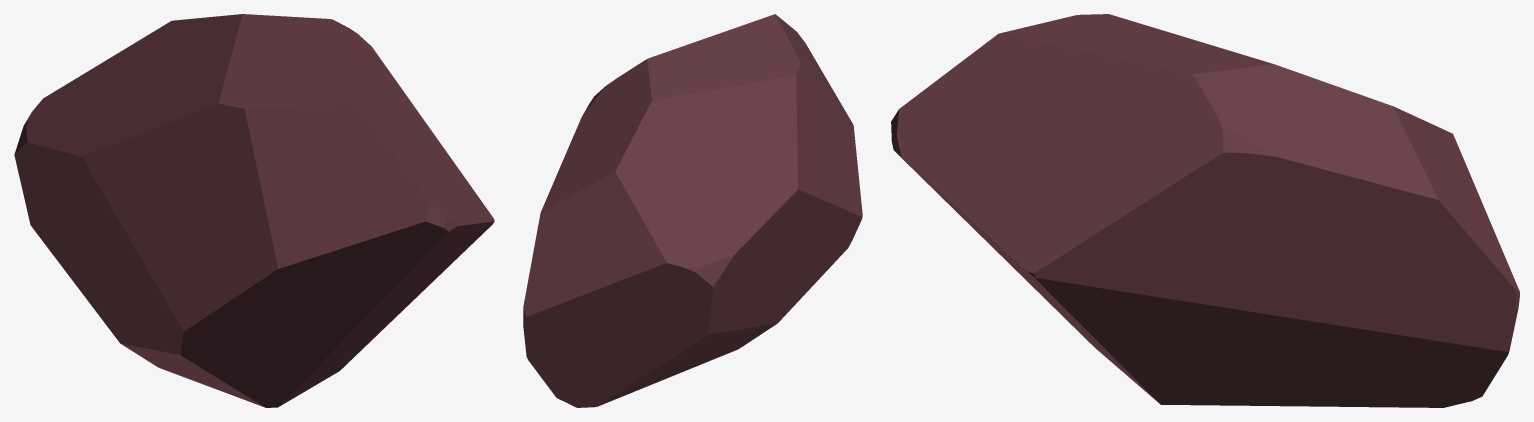
File: pedra- versão 2.fbx
3 views of the same model, side by side, from view 1: azimuth 30°, elevation 25°; view 2: azimuth 150°, elevation 25°; view 3: azimuth 270°, elevation 25° (orthographic). The views are drawn at different scales.
Parts seen in each view (by area): view 1: pedra - versão 2; view 2: pedra - versão 2; view 3: pedra - versão 2.
Boxes of the visible parts, x1=… form: pedra - versão 2: x1=14, y1=14, x2=494, y2=407; pedra - versão 2: x1=523, y1=14, x2=862, y2=407; pedra - versão 2: x1=891, y1=14, x2=1519, y2=407.
Size of the model in its own units: 137 by 152 by 245.
